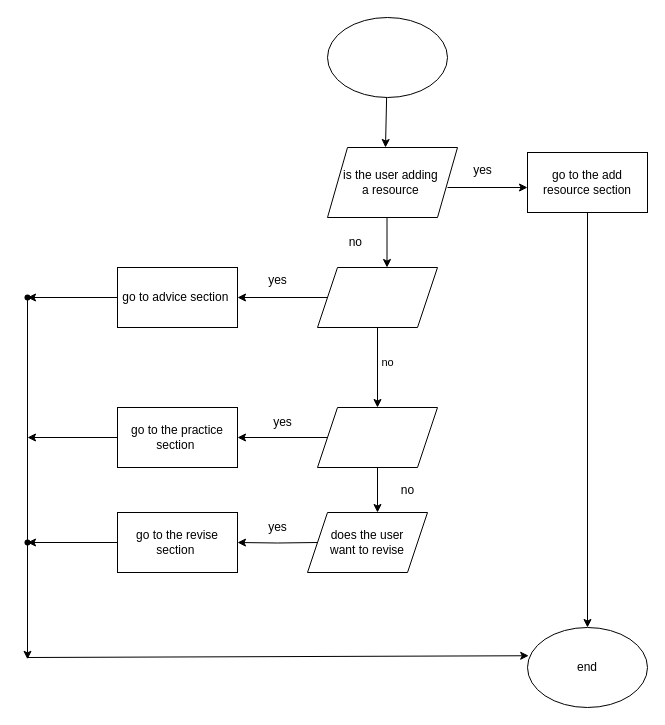
Image size: 665x725. Some labels were removed from this diagram. The shapes that lost their labels are listed below. From the top down, each one's box as (x1, y1, x2, y2) in pixels, then its label:
(326, 16, 448, 98): START
(316, 266, 438, 328): does the user want advice
(316, 406, 438, 468): does the user want to practice
